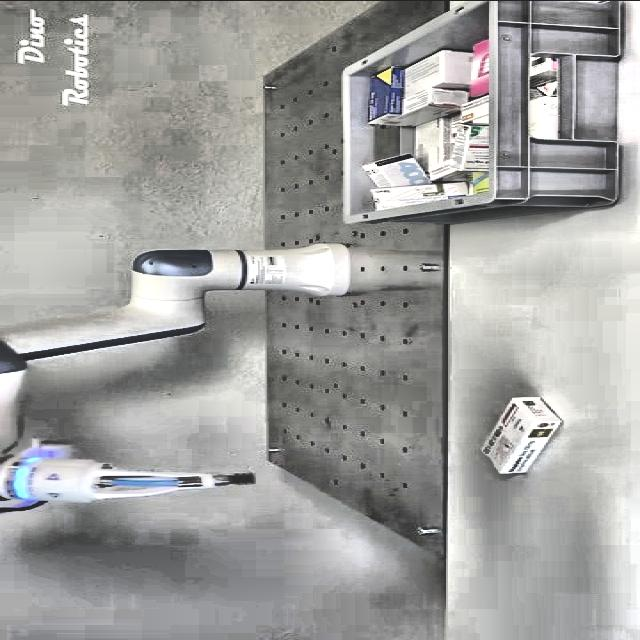robot: (0, 241, 352, 514)
